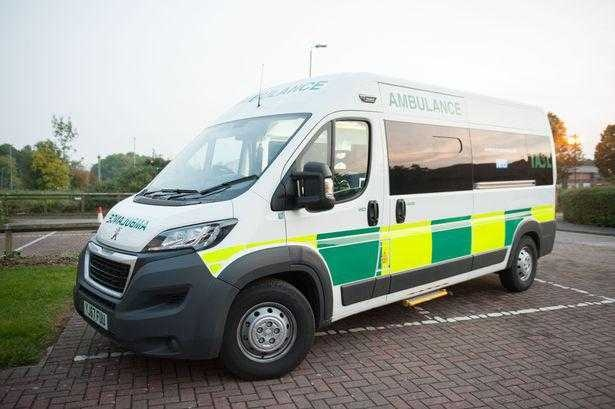Ambulance: (63, 86, 582, 372)
